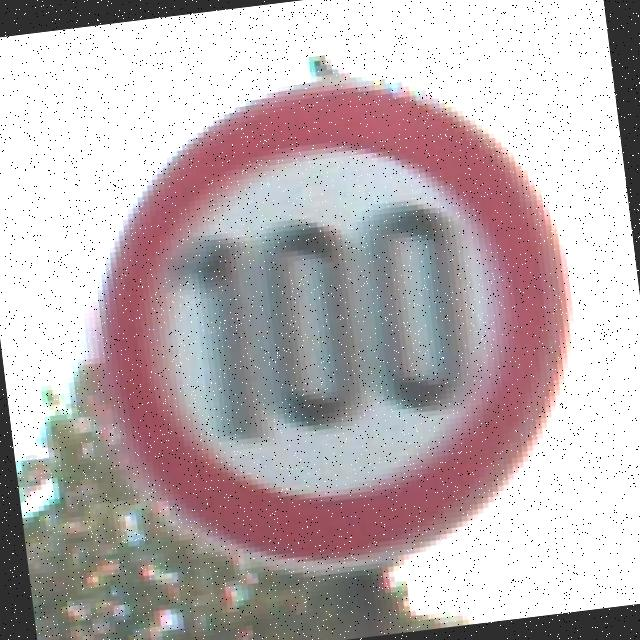Ograniczenie predkosci do 100: (73, 60, 582, 590)
